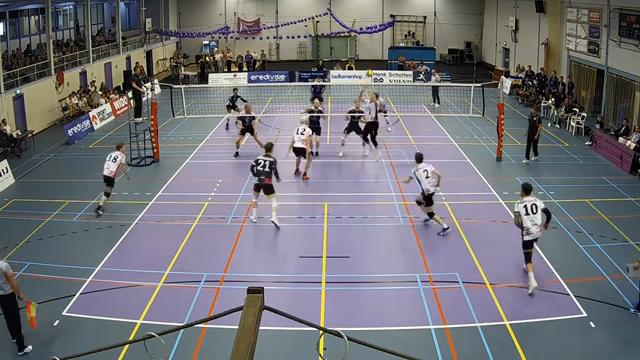Player: (514, 183, 551, 294), (403, 152, 450, 235), (250, 142, 280, 229), (95, 143, 128, 217), (339, 99, 365, 156), (234, 104, 262, 156), (289, 115, 311, 179), (225, 88, 247, 129), (377, 95, 391, 131), (378, 97, 391, 131), (310, 76, 325, 103)
Set: (350, 82, 387, 162)
ball: (366, 69, 375, 78)
